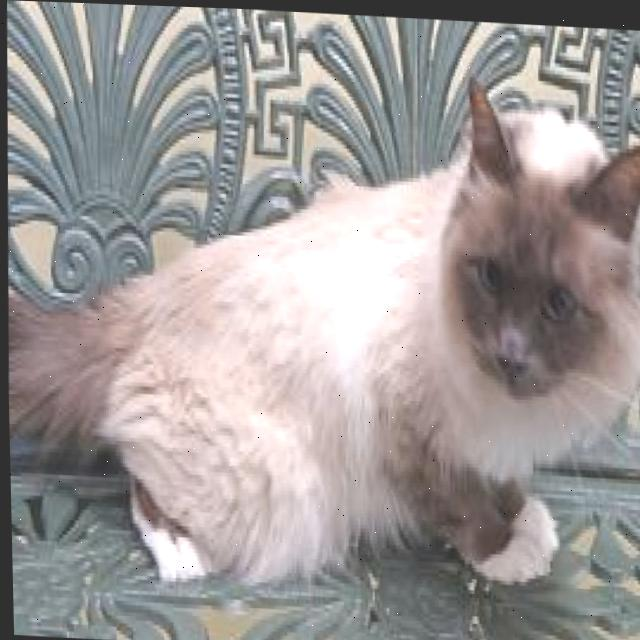Birman: (1, 39, 640, 616)
